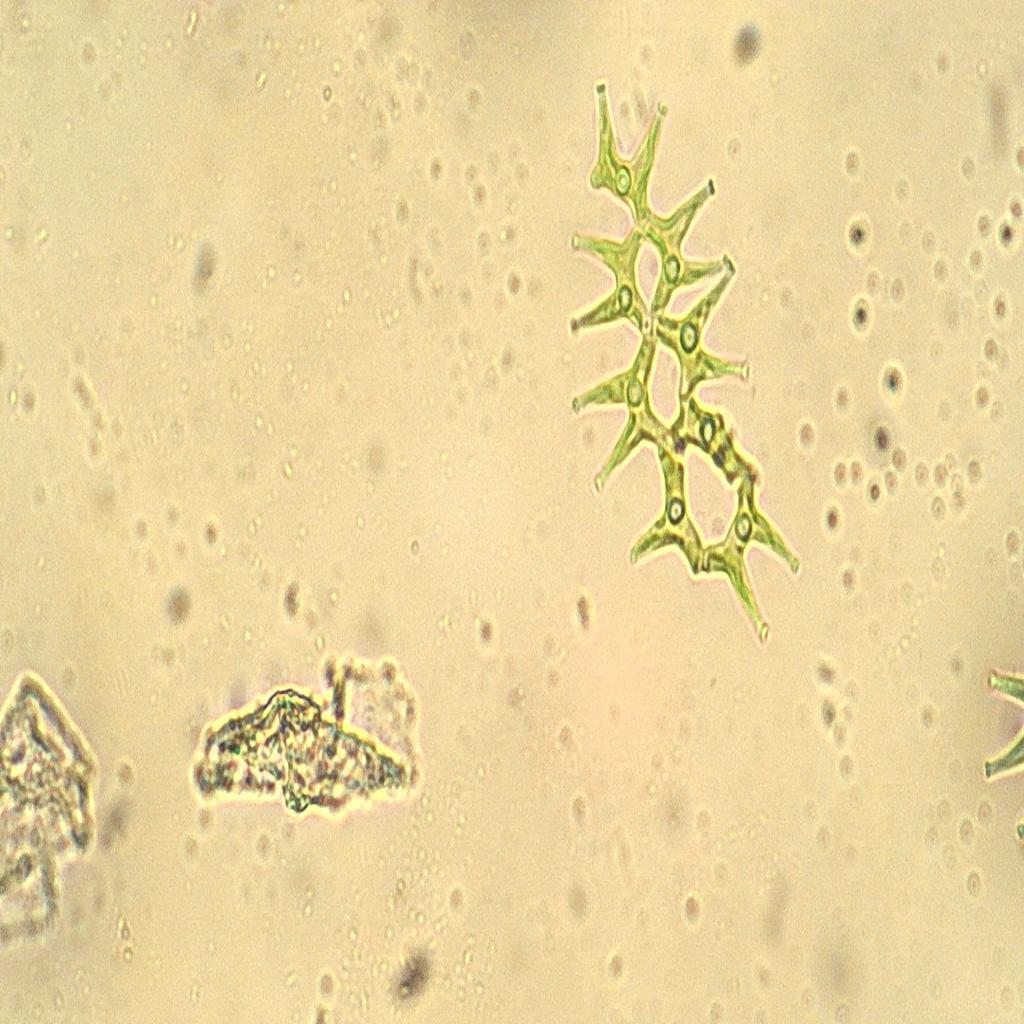Pediastrum_CFI: (556, 52, 817, 674)
